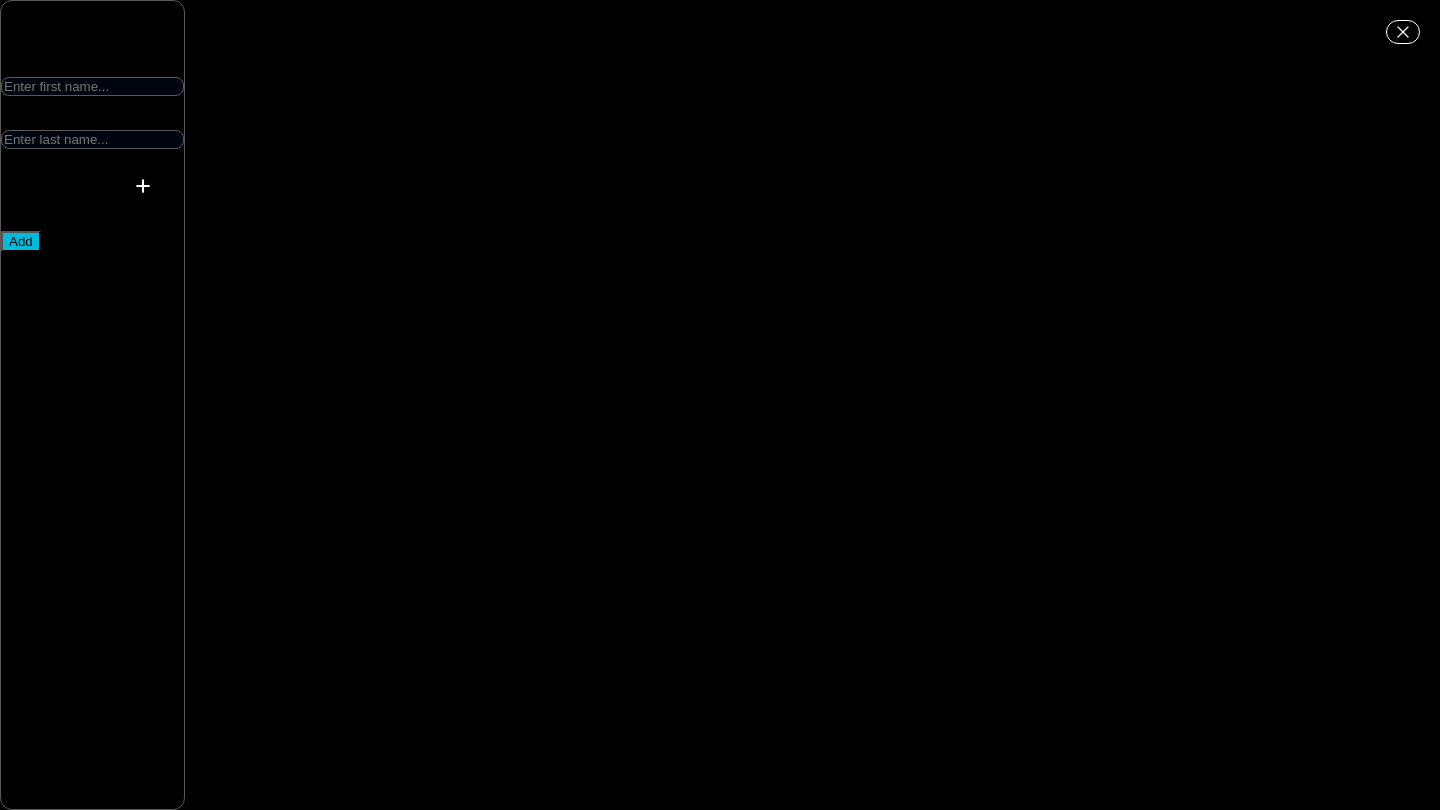
Add contact and its functionality › empty phone number after add field, fill the remain field, should not be added
This screenshot has width=1440, height=810.
Type "Yues" into the field labelled "First Name" at coordinates (92, 86), box [1,77,184,96]
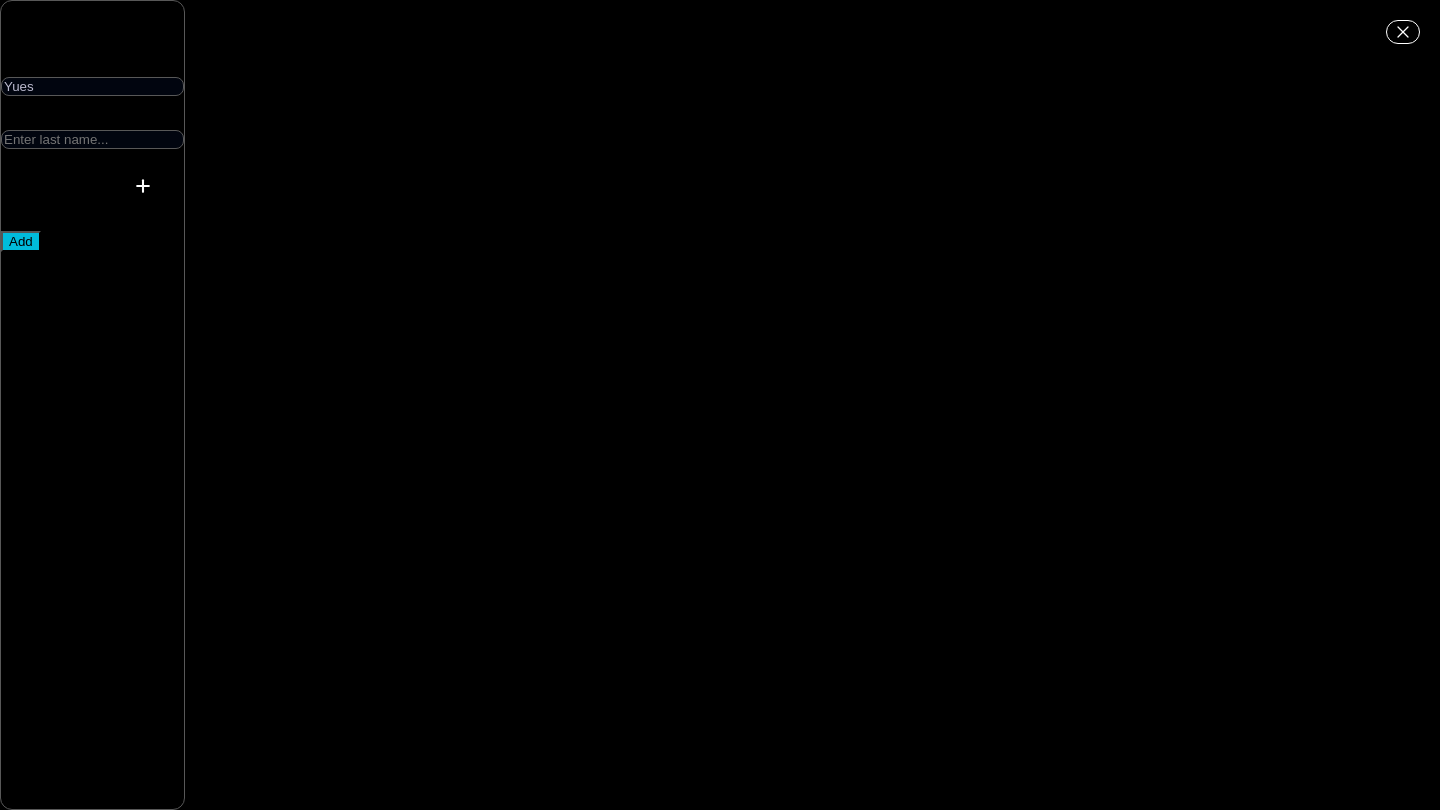
Type "tadrik" into the field labelled "Last Name" at coordinates (92, 140), box [1,130,184,149]
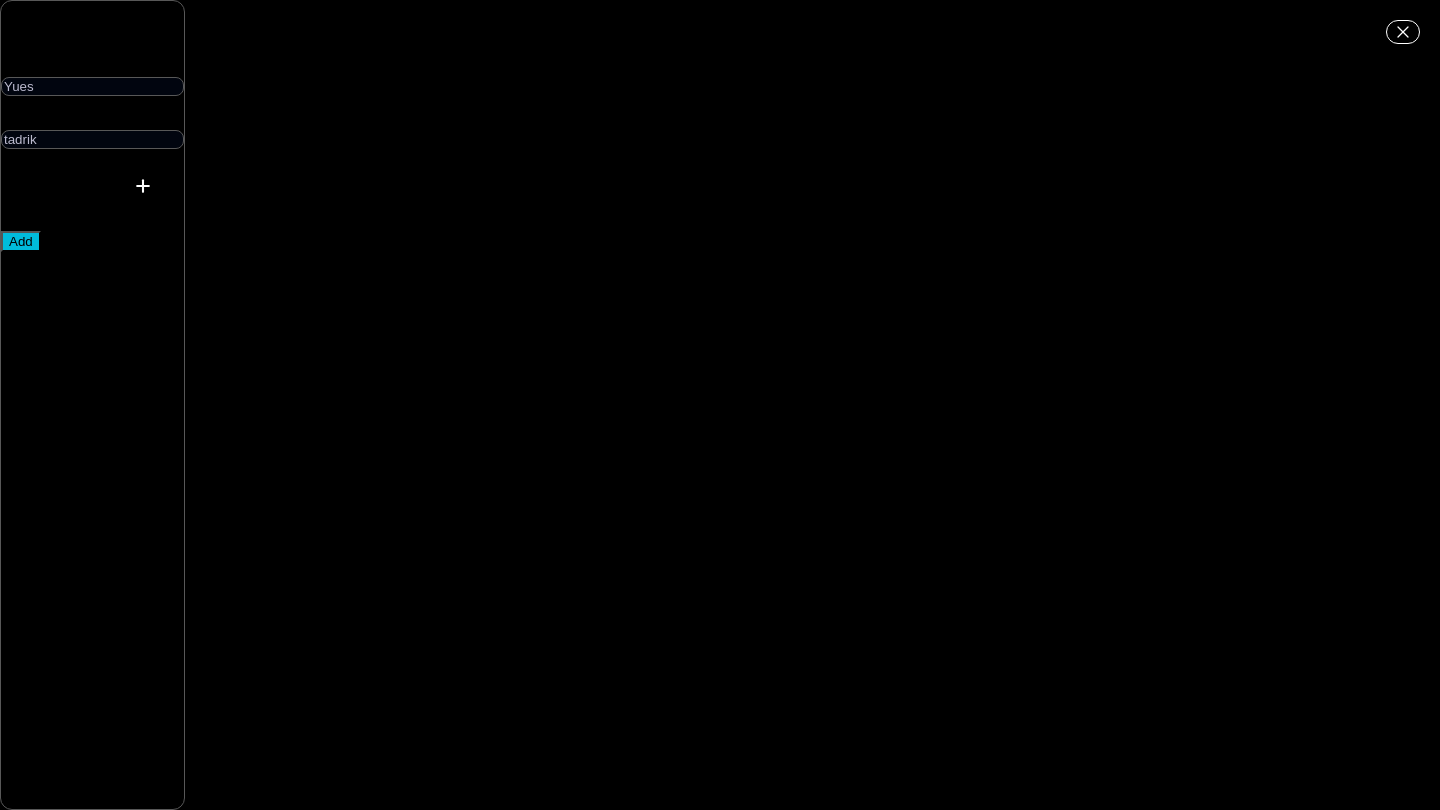
Click the icon with test id "plus" at coordinates (143, 186), box [133,176,153,196]
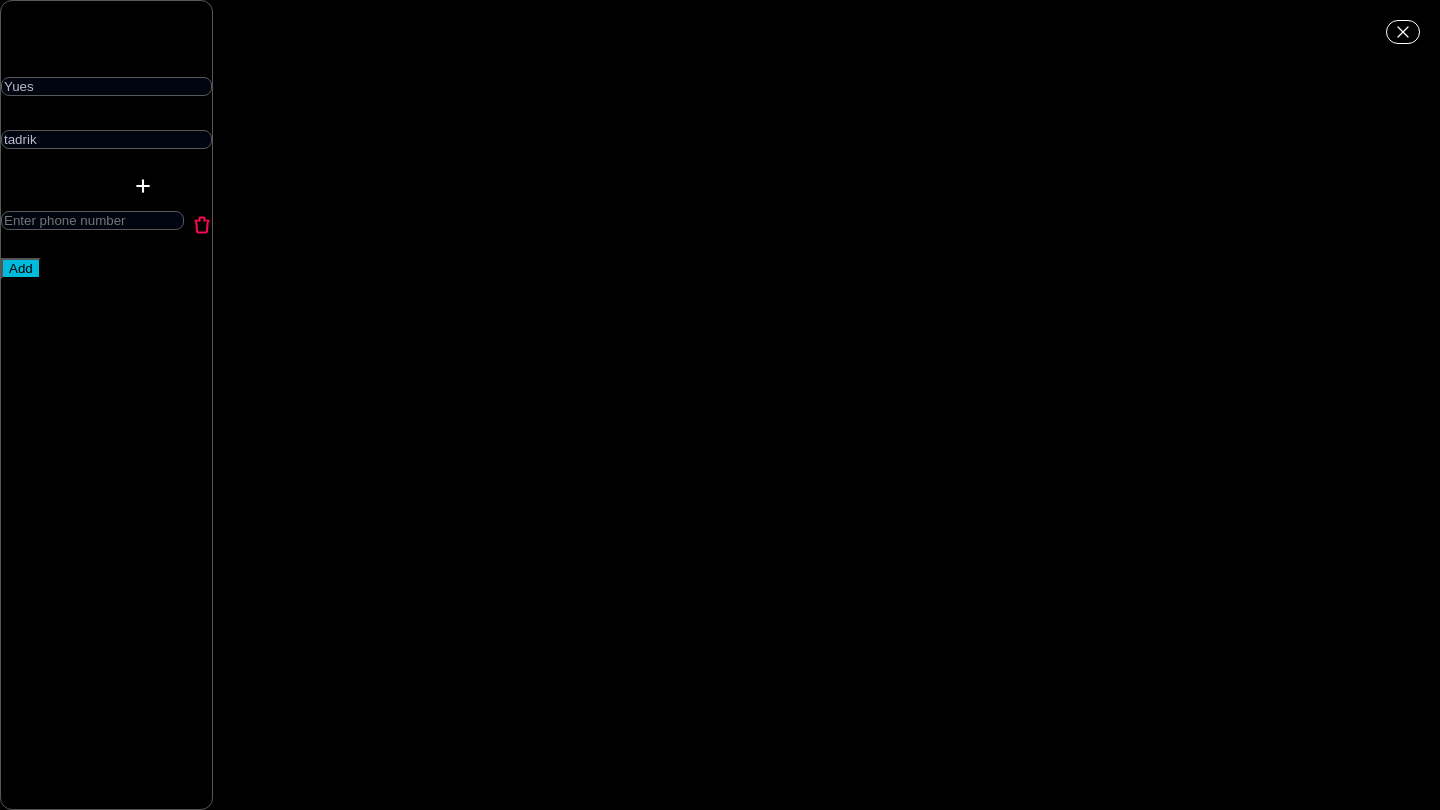
Click the button "Add" at coordinates (21, 268), box [1,258,41,279]
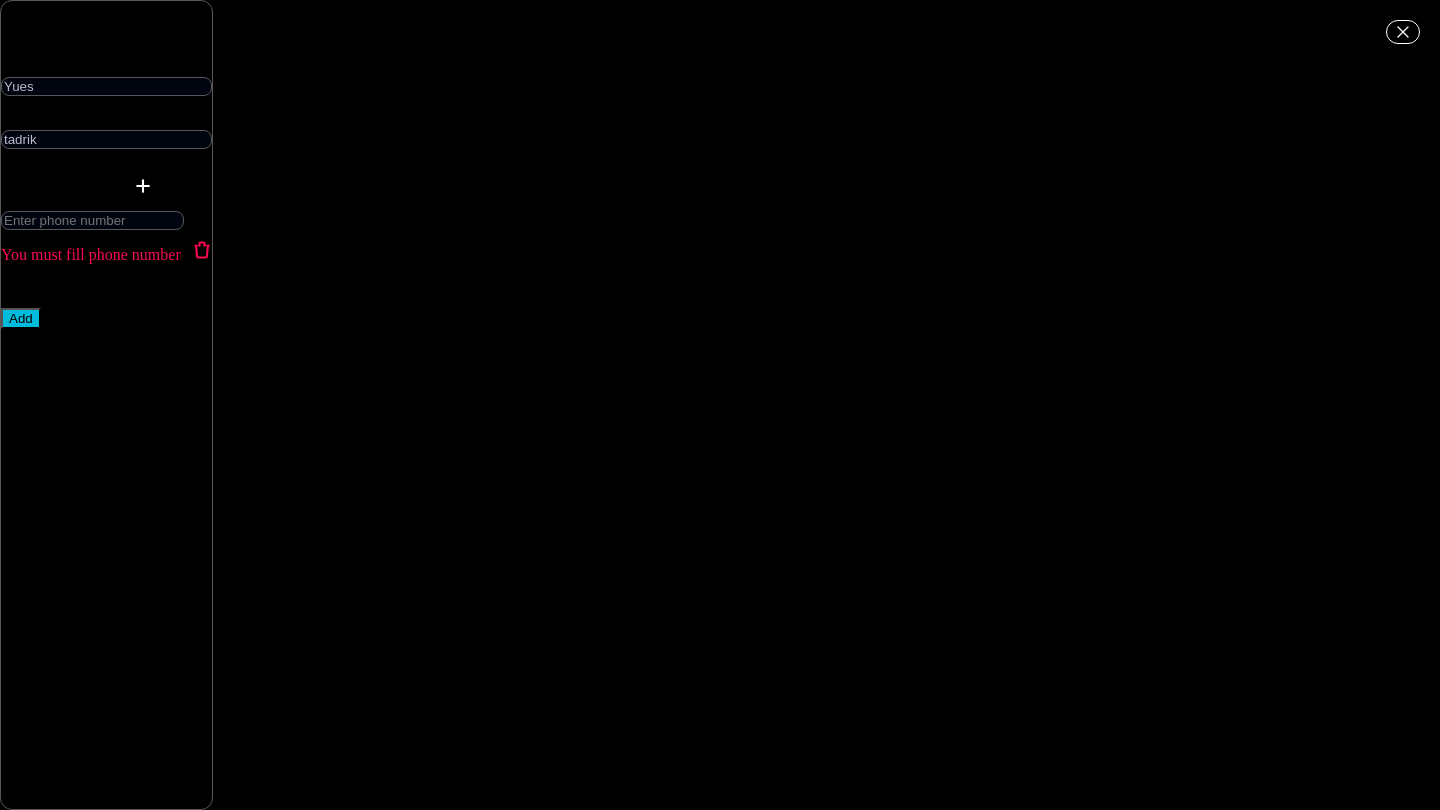
Now the text "You must fill phone number" is shown, box [1,246,184,264]
